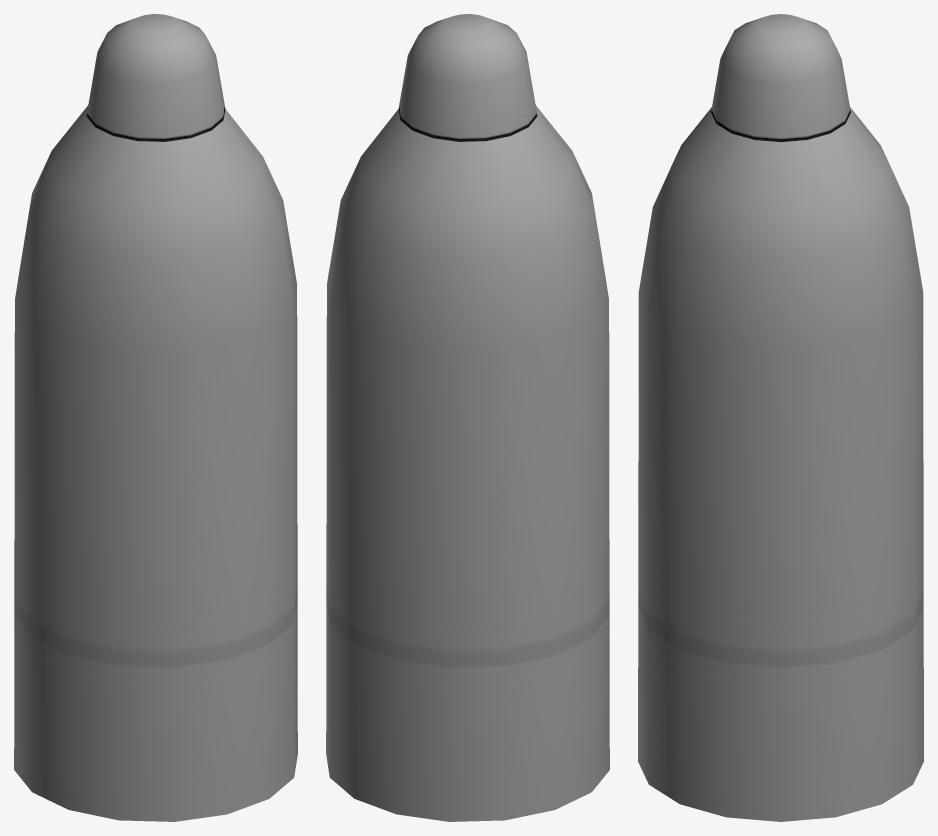
Rendered from MetalBottle.fbx.
3 renders of one model, left to right at view 1: azimuth 30°, elevation 25°; view 2: azimuth 150°, elevation 25°; view 3: azimuth 270°, elevation 25°, orthographic.
Visible parts, largest first — view 1: Cylinder.001; view 2: Cylinder.001; view 3: Cylinder.001.
Part boxes in pixels (x1,y1,x2,y2): Cylinder.001: [14, 14, 297, 821]; Cylinder.001: [326, 14, 609, 821]; Cylinder.001: [638, 14, 923, 821].
Size of the model in its own units: 31.89 by 90.72 by 31.89.
